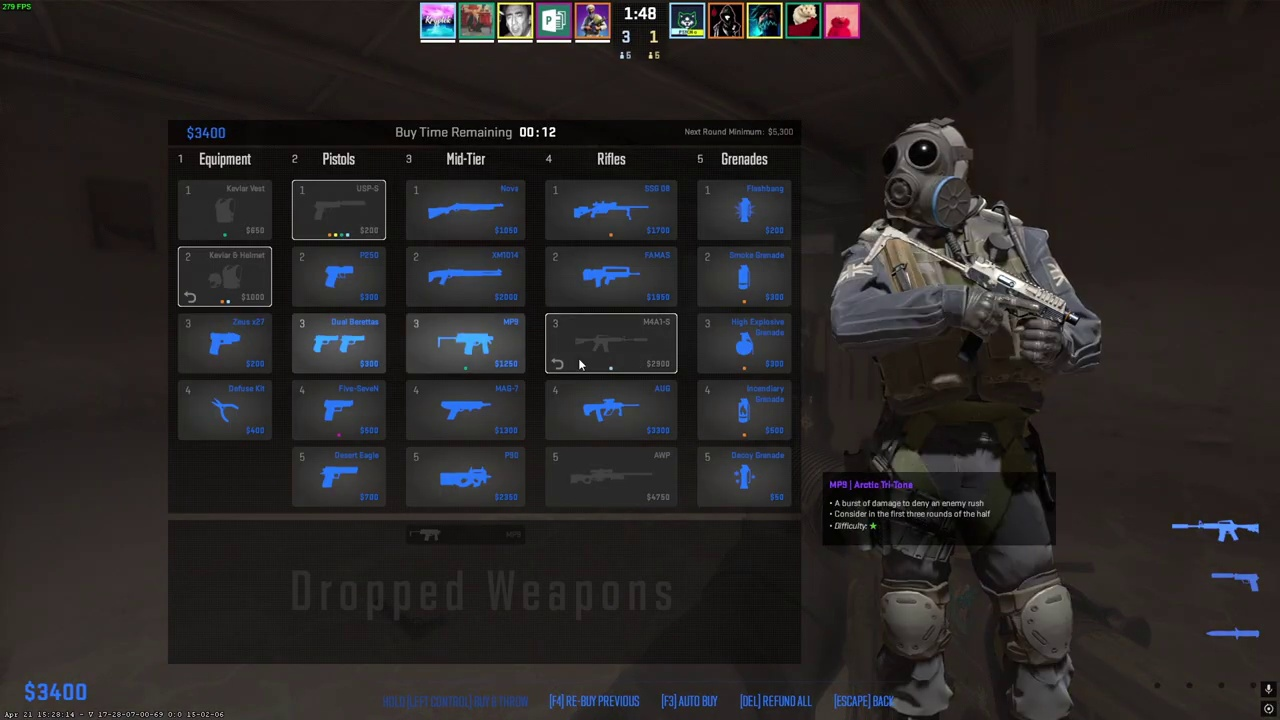CT: (858, 120, 1081, 720)
